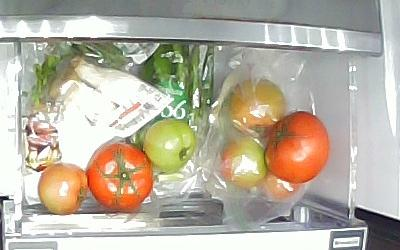tomato: (260, 109, 329, 183), (84, 140, 154, 210), (141, 117, 195, 169), (37, 162, 88, 213)
tomato_vinyl: (227, 76, 285, 137), (217, 134, 267, 189), (258, 172, 301, 199)
